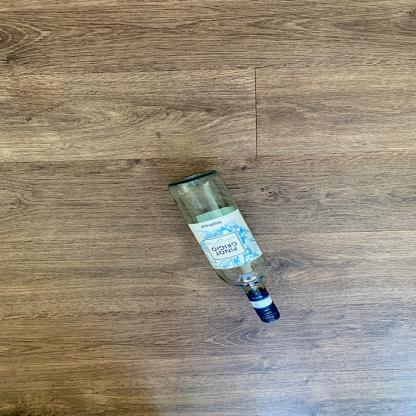trash: (167, 169, 292, 326)
